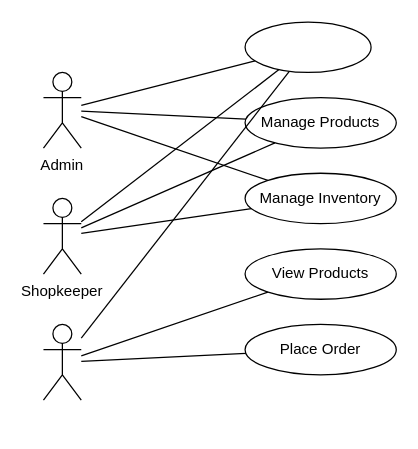
Image size: 418x449. Some labels were removed from this diagram. Each missing label, with the centre of its shape:
"Customer" belongs at point 61,361.
"Login" belongs at point 307,46.
